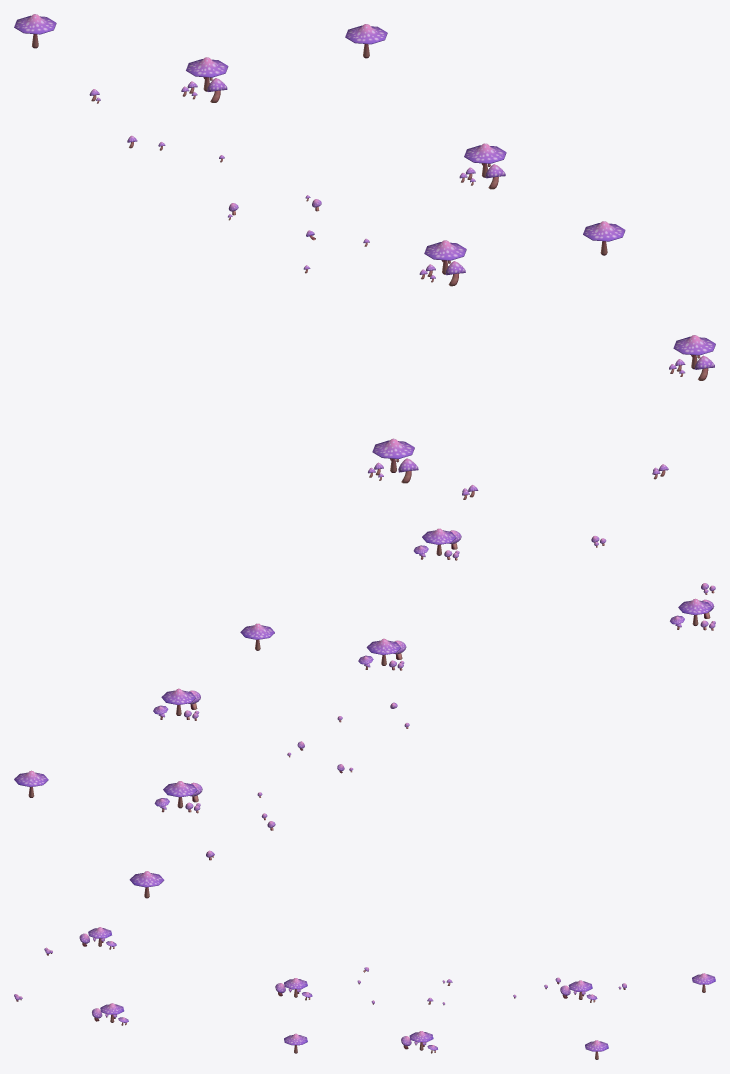
The model's file is mushroomB.fbx.
3 views of the same model, one above another, from view 1: azimuth 30°, elevation 25°; view 2: azimuth 150°, elevation 25°; view 3: azimuth 270°, elevation 25° (orthographic). The views are drawn at different scales.
Visible parts, largest first — view 1: mushroomB; view 2: mushroomB; view 3: mushroomB.
Part boxes in pixels (<box>): mushroomB: <box>14,14,715,499</box>; mushroomB: <box>14,528,715,898</box>; mushroomB: <box>14,927,715,1059</box>.
Bounding box in the file's own units: 1880 × 215 × 4438.
